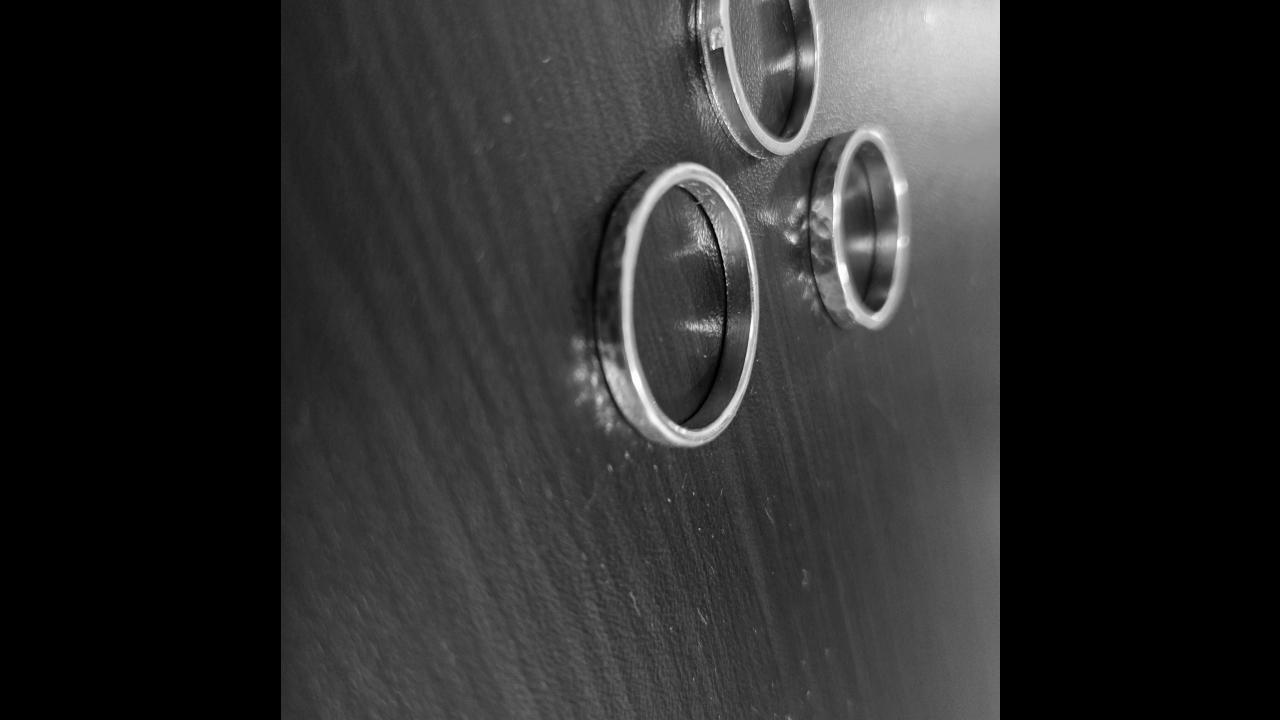ring: (594, 160, 760, 446), (804, 126, 910, 338), (694, 0, 820, 160)
